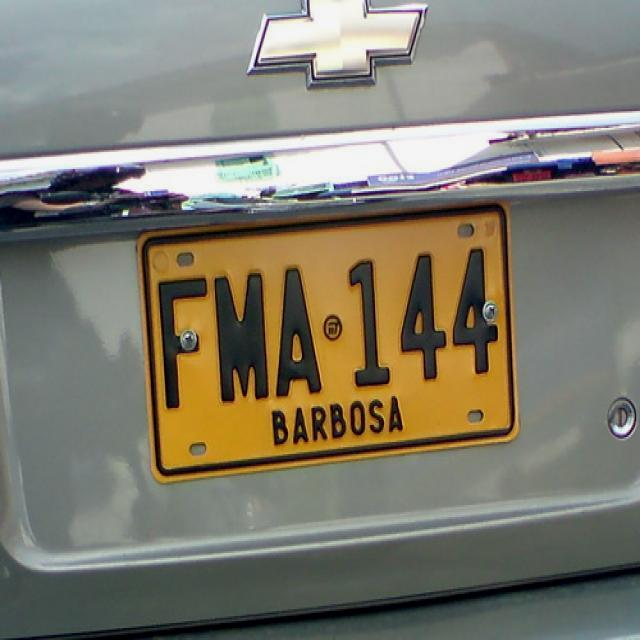placa: (133, 197, 524, 489)
